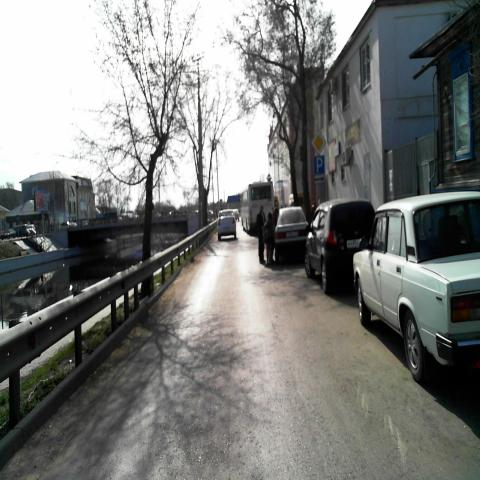2_1: (311, 129, 327, 155)
6_4: (314, 155, 324, 172)
8_3_1: (314, 173, 324, 183)
